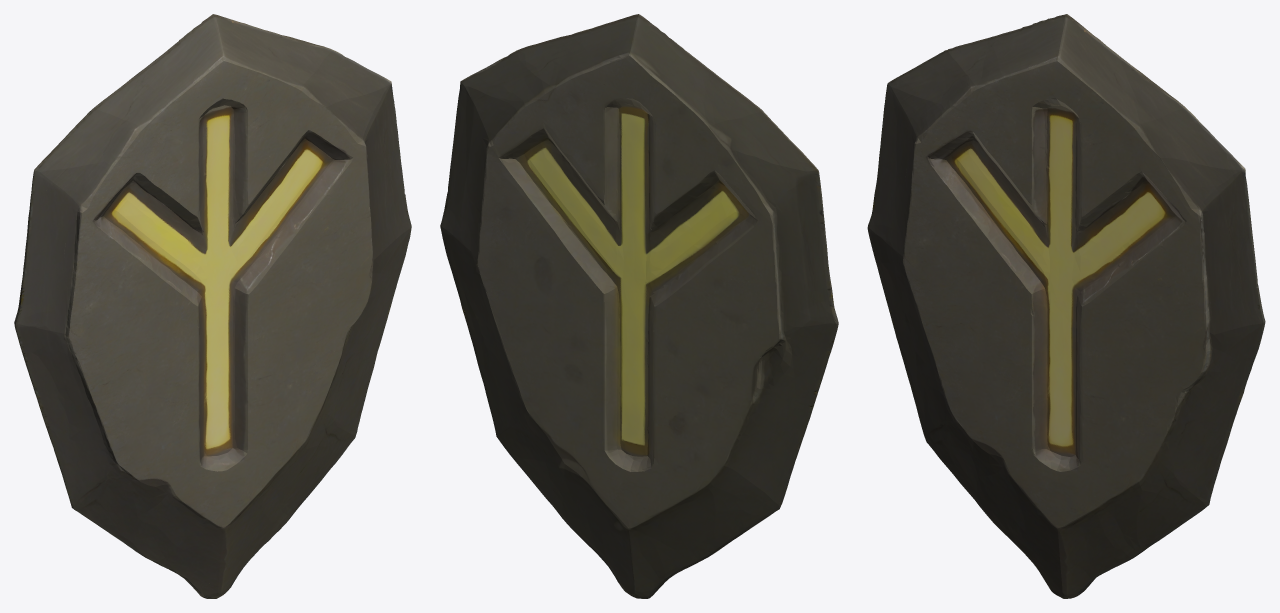
The model's file is Rune_Stone_0527021532_texture.fbx.
3 views of the same model, side by side, from view 1: azimuth 30°, elevation 25°; view 2: azimuth 150°, elevation 25°; view 3: azimuth 330°, elevation 25° (orthographic).
Visible parts, largest first — view 1: temp; view 2: temp; view 3: temp.
Part boxes in pixels (x1,y1,x2,y2): temp: [14, 14, 411, 598]; temp: [440, 14, 838, 598]; temp: [867, 14, 1265, 598].
Size of the model in its own units: 143 by 200 by 12.56.
1 material, 1 textured.
